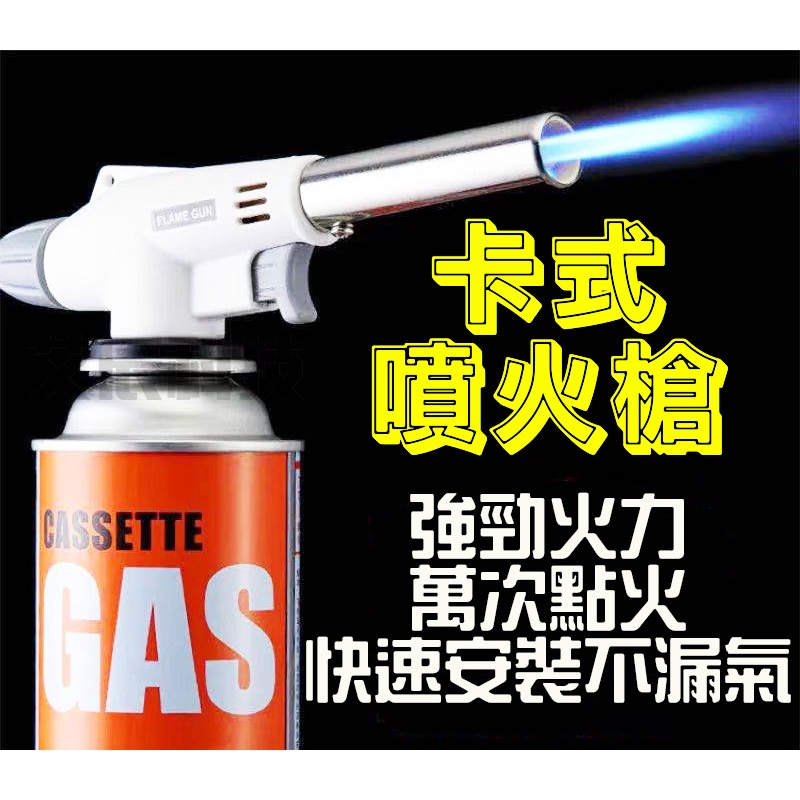gastorch: (1, 112, 574, 741)
